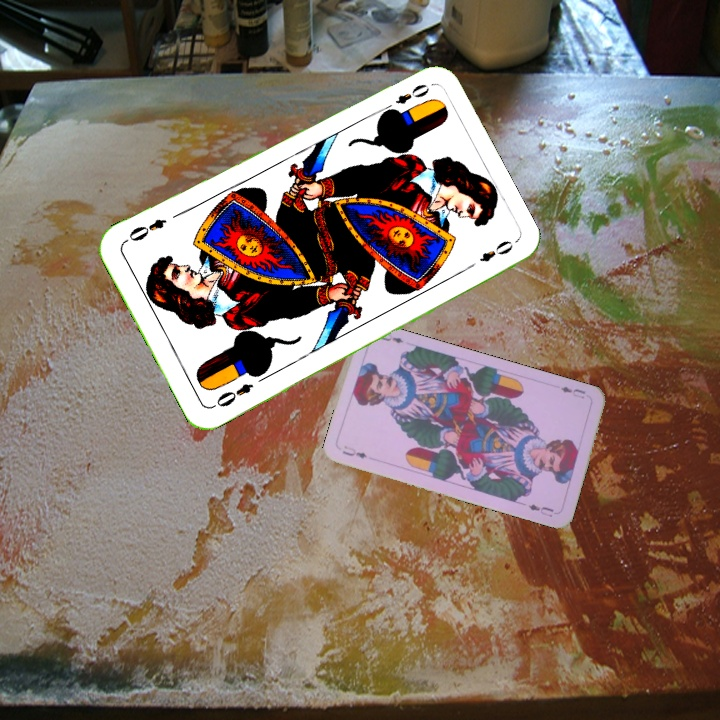EO: (208, 379, 256, 411), (391, 80, 432, 107)
EU: (556, 382, 588, 401), (338, 442, 370, 461)
